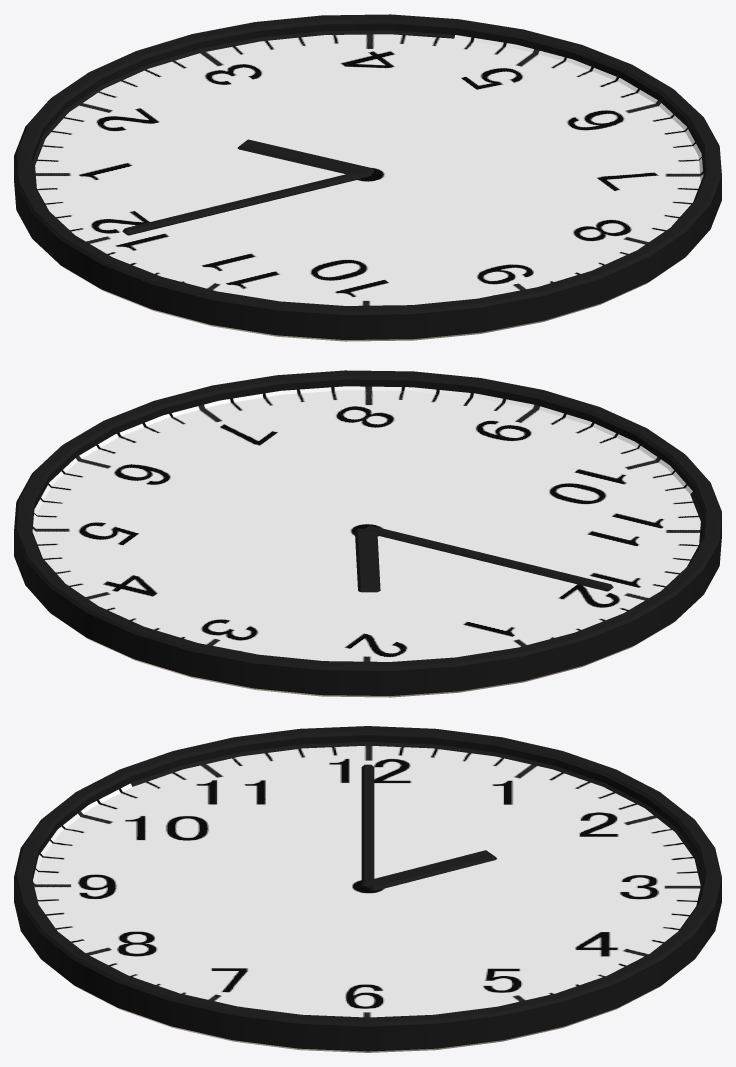
Rendered from Clock.fbx.
3 views of the same model, one above another, from view 1: azimuth 30°, elevation 25°; view 2: azimuth 150°, elevation 25°; view 3: azimuth 270°, elevation 25° (orthographic).
Visible parts, largest first — view 1: Clock.001, Clock.002, Clock.003; view 2: Clock.001, Clock.002, Clock.003; view 3: Clock.001, Clock.002, Clock.003.
Part boxes in pixels (x1,y1,x2,y2): Clock.001: [14, 14, 721, 341]; Clock.002: [122, 169, 372, 235]; Clock.003: [237, 139, 374, 174]; Clock.001: [14, 370, 721, 697]; Clock.002: [365, 525, 613, 591]; Clock.003: [355, 528, 380, 592]; Clock.001: [14, 726, 721, 1052]; Clock.002: [361, 764, 374, 886]; Clock.003: [367, 850, 496, 890].
Size of the model in its own units: 200 by 9.43 by 200.
